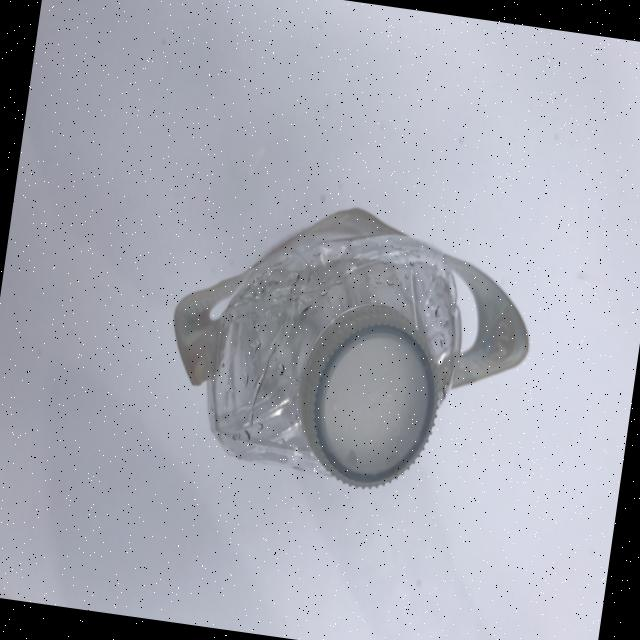plastic: (153, 183, 545, 510)
